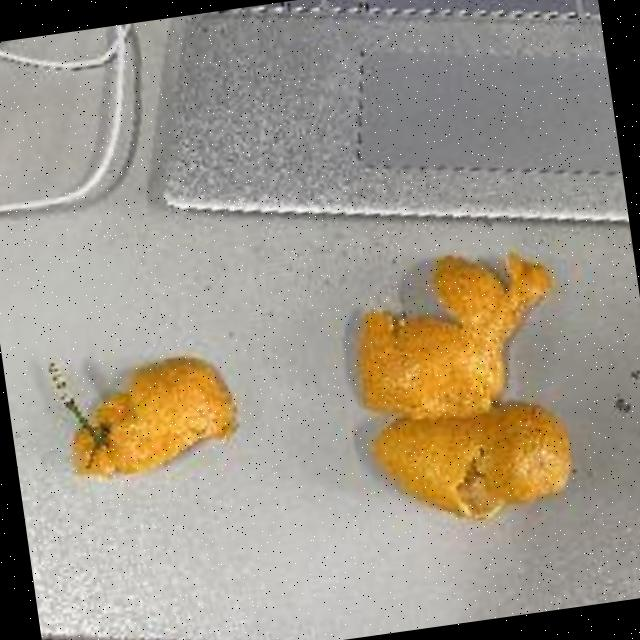orange-peel: (331, 242, 591, 532), (40, 338, 252, 486)
